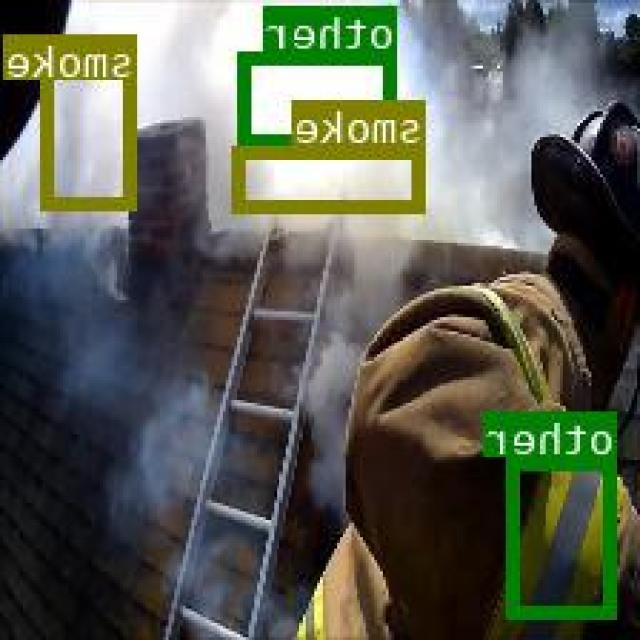other: (510, 456, 617, 616), (242, 49, 399, 143)
smoke: (44, 32, 139, 206), (235, 145, 427, 209)
